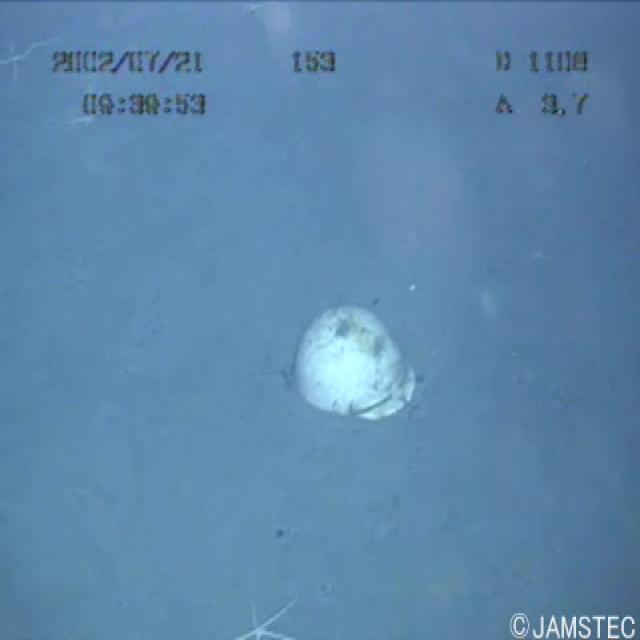plastic: (262, 281, 430, 434)
